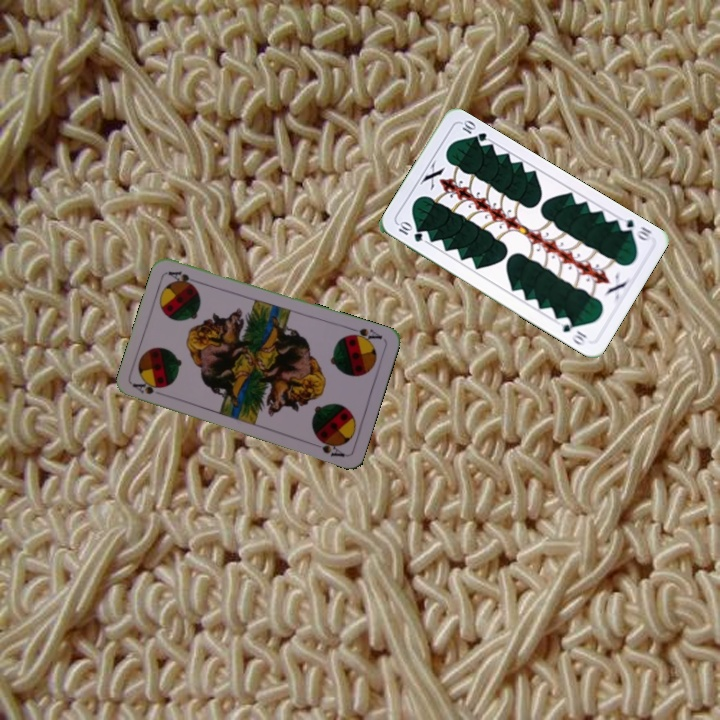G10: (614, 215, 654, 244), (393, 218, 425, 245)
SA: (344, 323, 385, 345), (129, 379, 163, 397)
